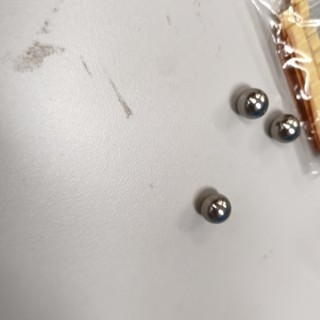ironball: (263, 98, 300, 160), (187, 190, 238, 233), (236, 77, 267, 126)
